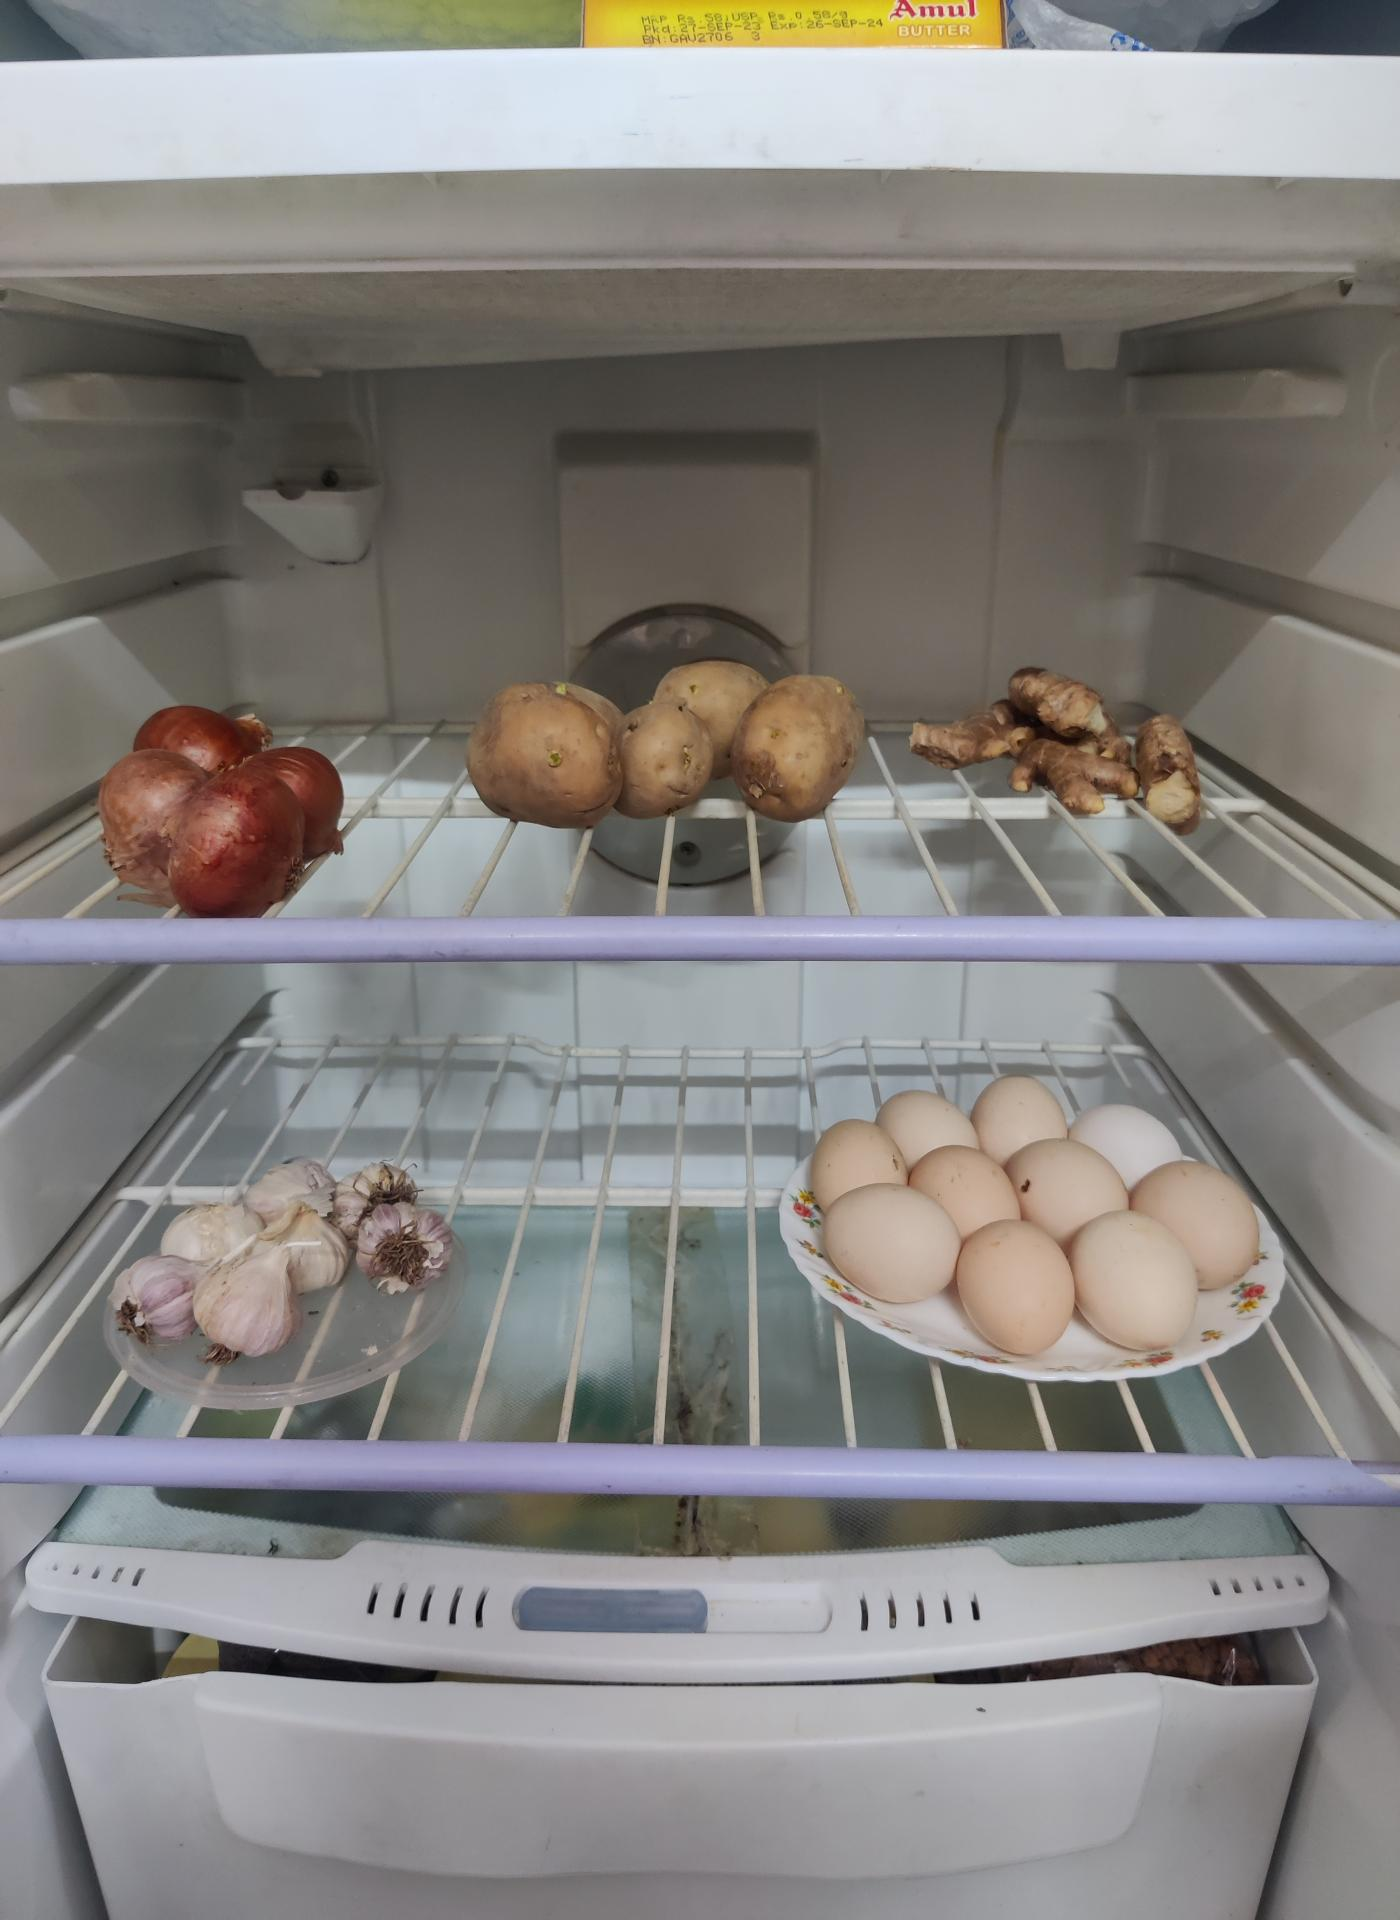egg: (792, 1076, 1262, 1362)
garlic: (124, 1161, 361, 1359)
ginger: (916, 663, 1210, 817)
onion: (98, 704, 347, 915)
potato: (460, 666, 864, 832)
